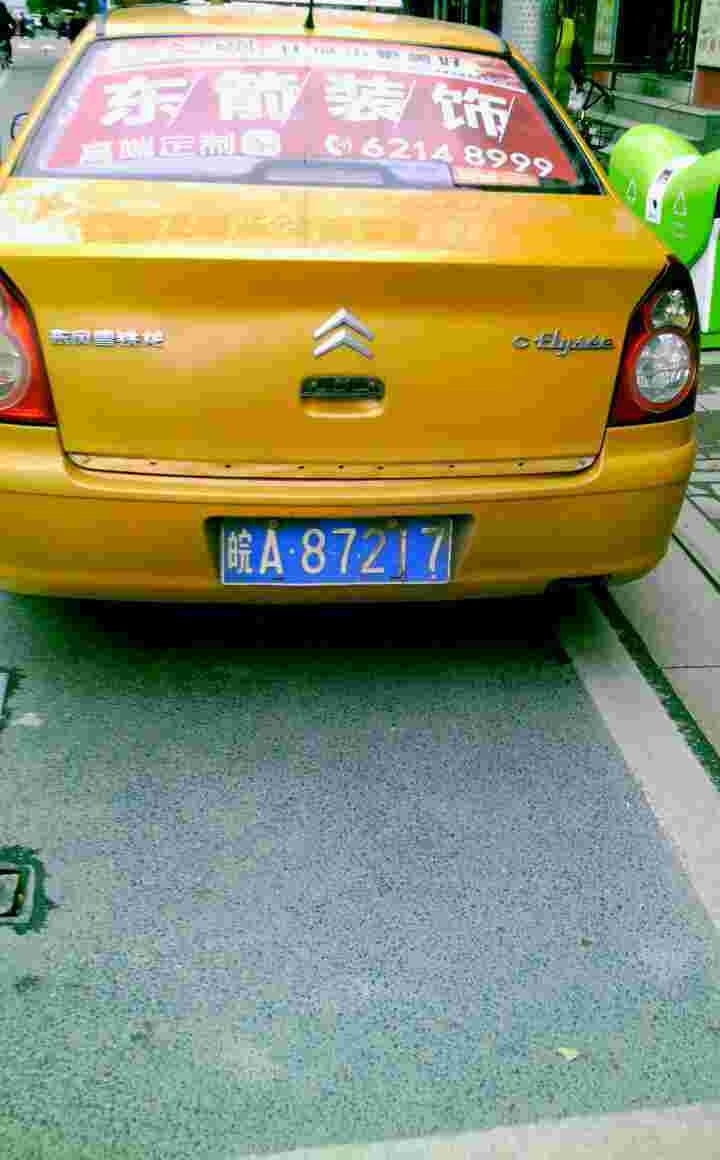license_plate: (221, 525, 464, 586)
